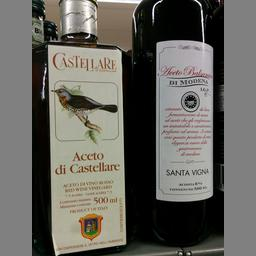vinegar: (34, 0, 132, 254), (132, 0, 218, 247)
